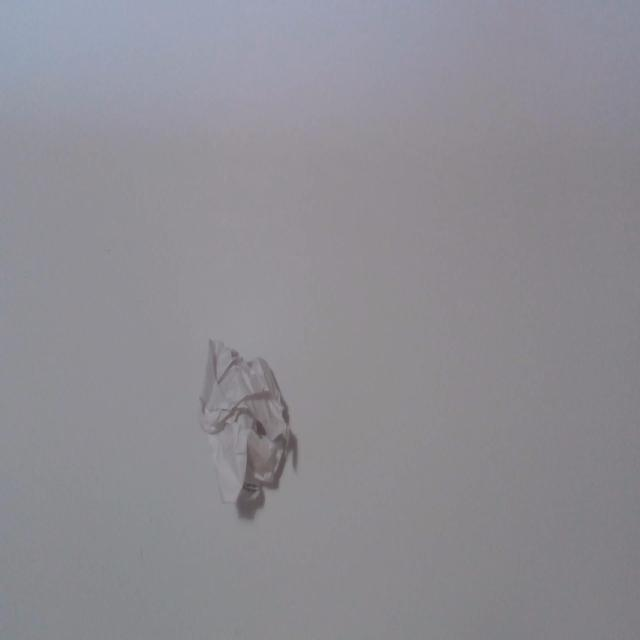Paper: (198, 330, 294, 520)
